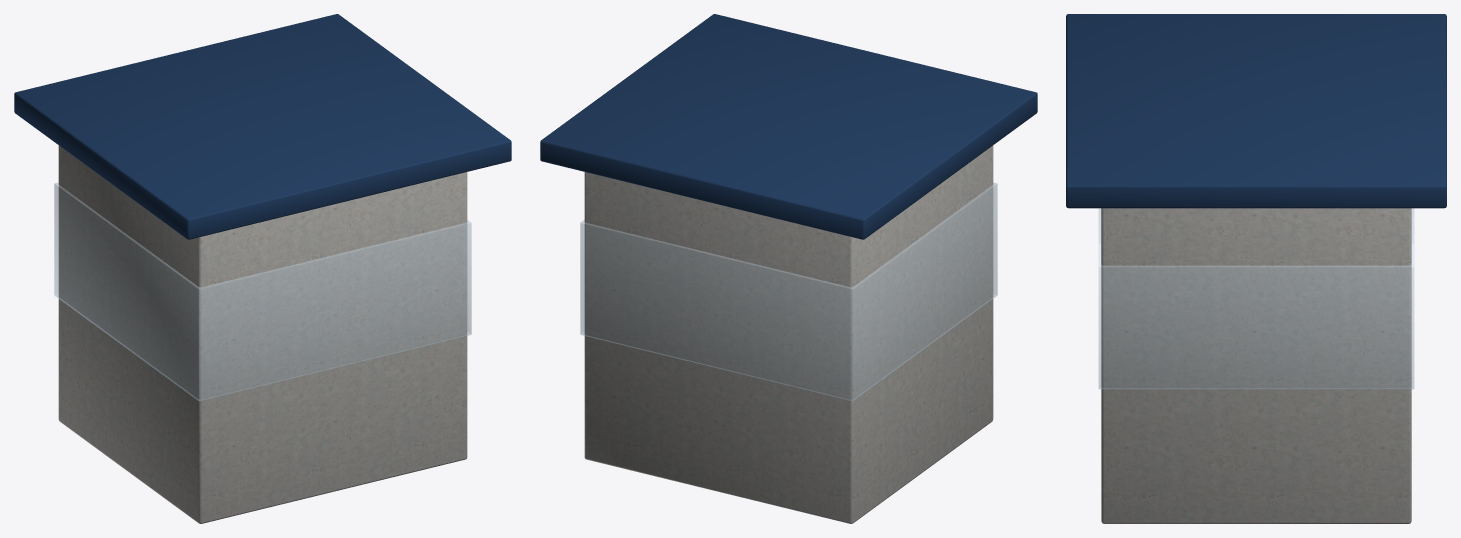
Rendered from campus-guardhouse-d1b7f4bb50d2.glb.
3 views of the same model, side by side, from view 1: azimuth 30°, elevation 25°; view 2: azimuth 150°, elevation 25°; view 3: azimuth 270°, elevation 25° (orthographic). The views are drawn at different scales.
Visible parts, largest first — view 1: Base, Roof_Overhang, Window_Band; view 2: Base, Roof_Overhang, Window_Band; view 3: Base, Roof_Overhang, Window_Band.
Part boxes in pixels (<box>): Base: <box>58,145,467,523</box>; Roof_Overhang: <box>14,14,511,239</box>; Window_Band: <box>54,183,471,401</box>; Base: <box>584,145,993,523</box>; Roof_Overhang: <box>540,14,1037,239</box>; Window_Band: <box>580,183,997,401</box>; Base: <box>1101,208,1411,523</box>; Roof_Overhang: <box>1066,14,1446,208</box>; Window_Band: <box>1098,208,1414,389</box>.
Bounding box in the file's own units: 2.9 × 2.77 × 2.7.
3 materials, 1 textured.
